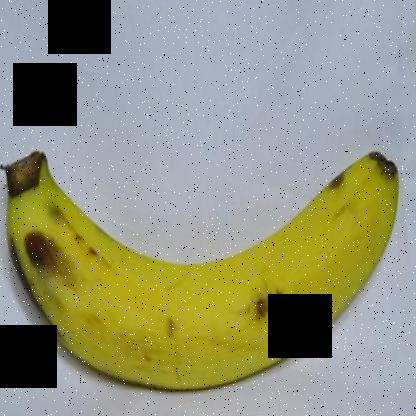freshripe: (0, 130, 410, 408)
